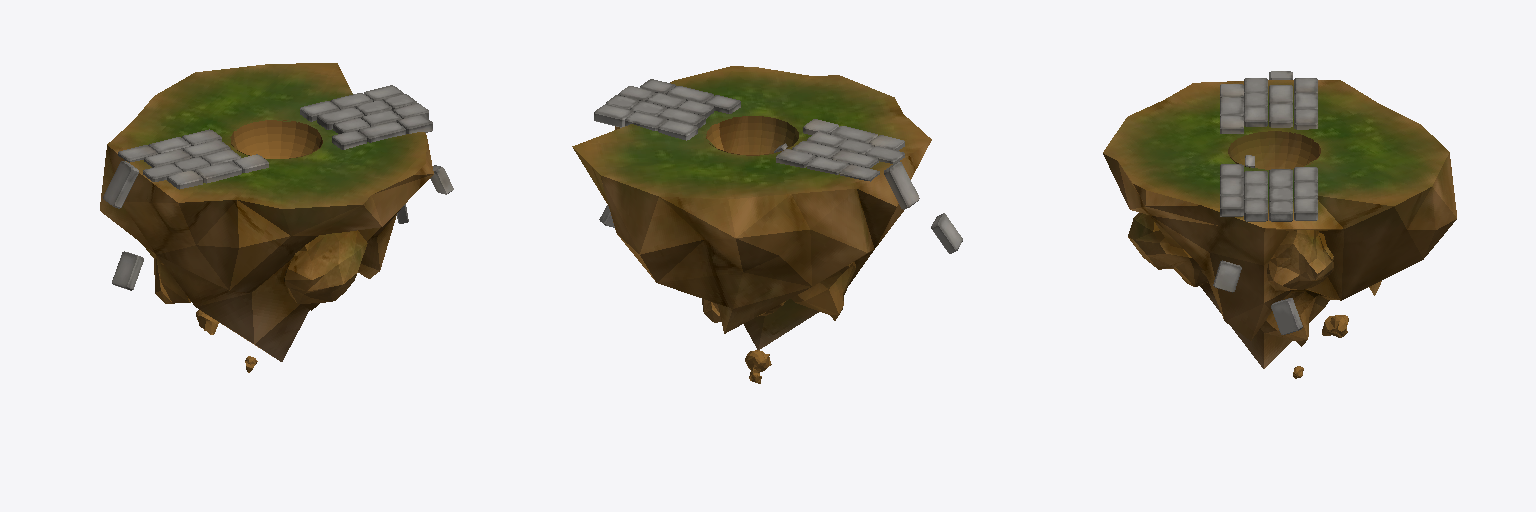
The picture shows the model from 3 angles: view 1: azimuth 30°, elevation 25°; view 2: azimuth 150°, elevation 25°; view 3: azimuth 270°, elevation 25°; orthographic projection.
Parts seen in each view (by area): view 1: Podium_LangridgeA; view 2: Podium_LangridgeA; view 3: Podium_LangridgeA.
Part boxes in pixels (left/top/right/bottom): Podium_LangridgeA: left=100, top=63, right=453, bottom=372; Podium_LangridgeA: left=572, top=66, right=962, bottom=383; Podium_LangridgeA: left=1103, top=71, right=1456, bottom=378.
Bounding box in the file's own units: 17.42 × 12.25 × 16.07.
3 materials, 2 textured.